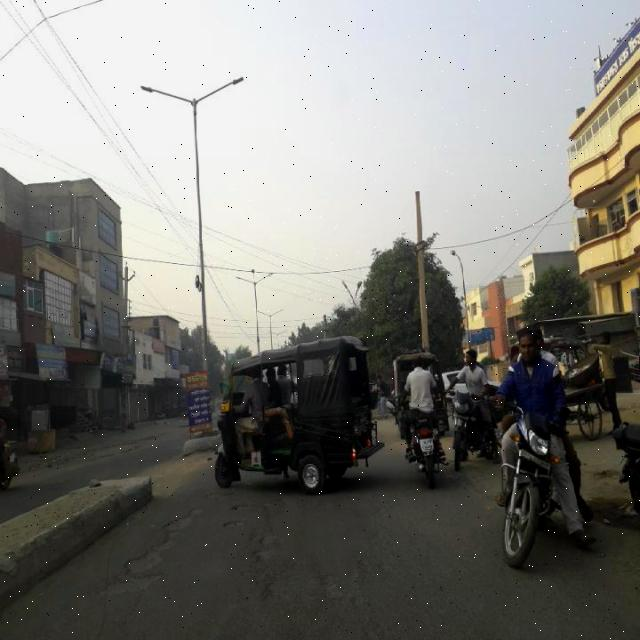D40: (245, 532, 382, 620), (88, 546, 167, 604), (153, 503, 204, 546), (217, 490, 253, 532)
